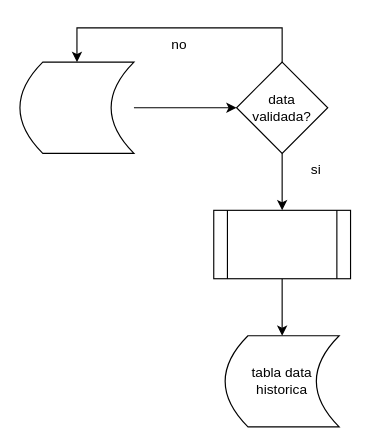
Image size: 371x447. Some labels were removed from this diagram. Here are the shapes that lost their labels. From the top down, the centre of each, then its label:
(x=76, y=107): storage data historica
(x=282, y=244): migrar datos
